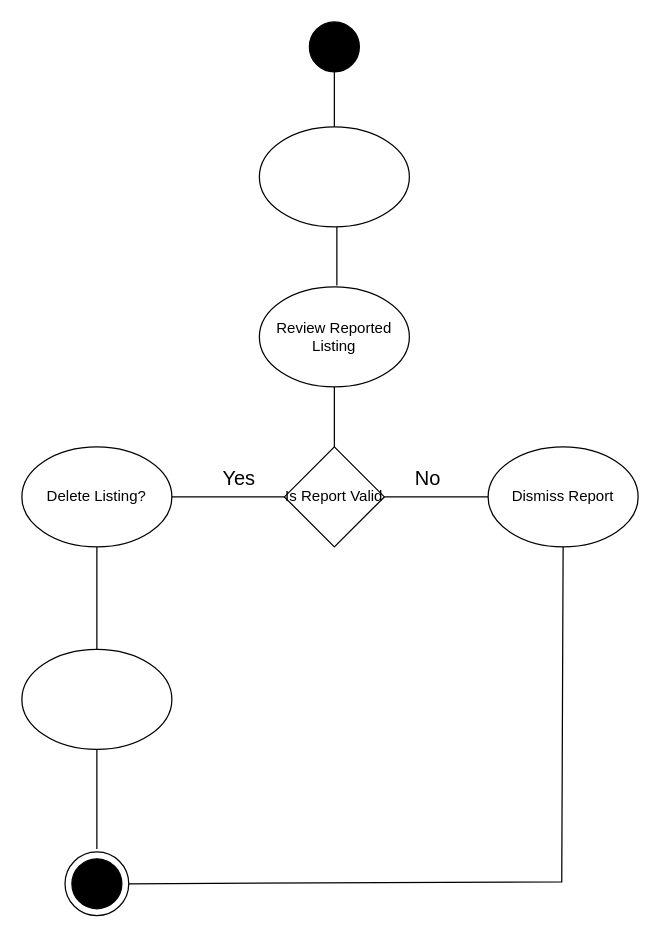
Image size: 660x938. Some labels were removed from this diagram. Each missing label, with the centre of its shape:
Notify Seller: (x=96, y=698)
Select Reported Listing: (x=333, y=176)
